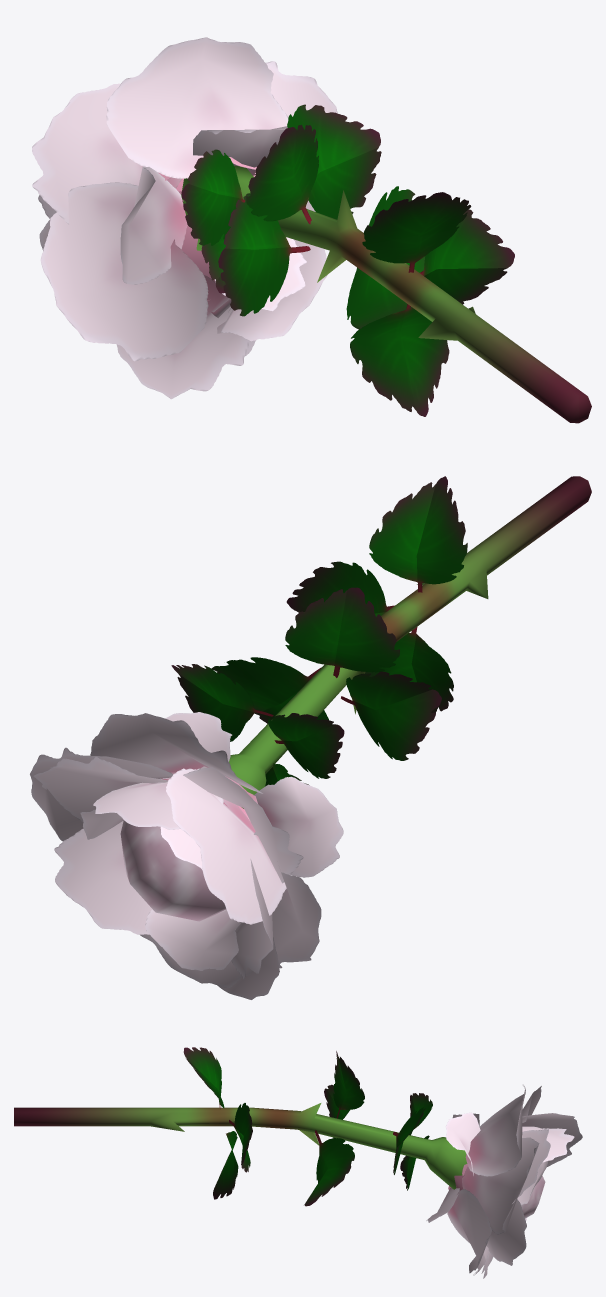
The model's file is SM_Rose_White_WideOpen.fbx.
3 renders of one model, top to bottom at view 1: azimuth 30°, elevation 25°; view 2: azimuth 150°, elevation 25°; view 3: azimuth 270°, elevation 25°, orthographic. The views are drawn at different scales.
Parts seen in each view (by area): view 1: Rose_White_WideOpen; view 2: Rose_White_WideOpen; view 3: Rose_White_WideOpen.
Boxes of the visible parts, x1,y1,x2,y2 form: Rose_White_WideOpen: (32, 37, 591, 423); Rose_White_WideOpen: (30, 476, 591, 999); Rose_White_WideOpen: (14, 1047, 582, 1278).
Size of the model in its own units: 52.56 by 59.81 by 130.
